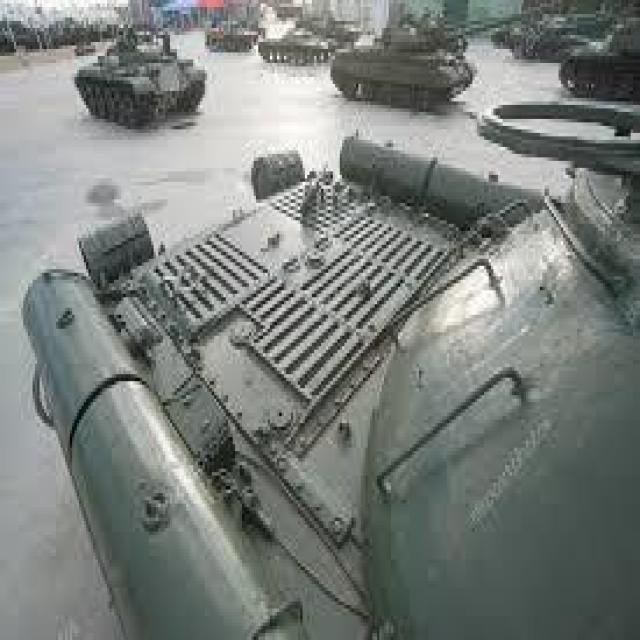MIL_MBT: (45, 135, 625, 621), (73, 24, 208, 136), (328, 14, 470, 115), (550, 26, 634, 107), (251, 14, 328, 77), (207, 19, 258, 65)
